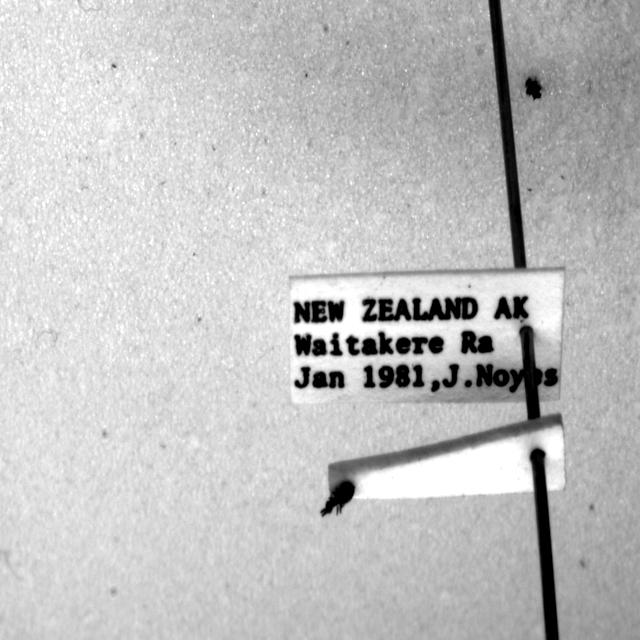typed_label: (290, 268, 564, 403)
